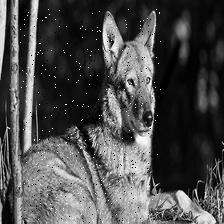WOLF: (20, 10, 161, 224)
